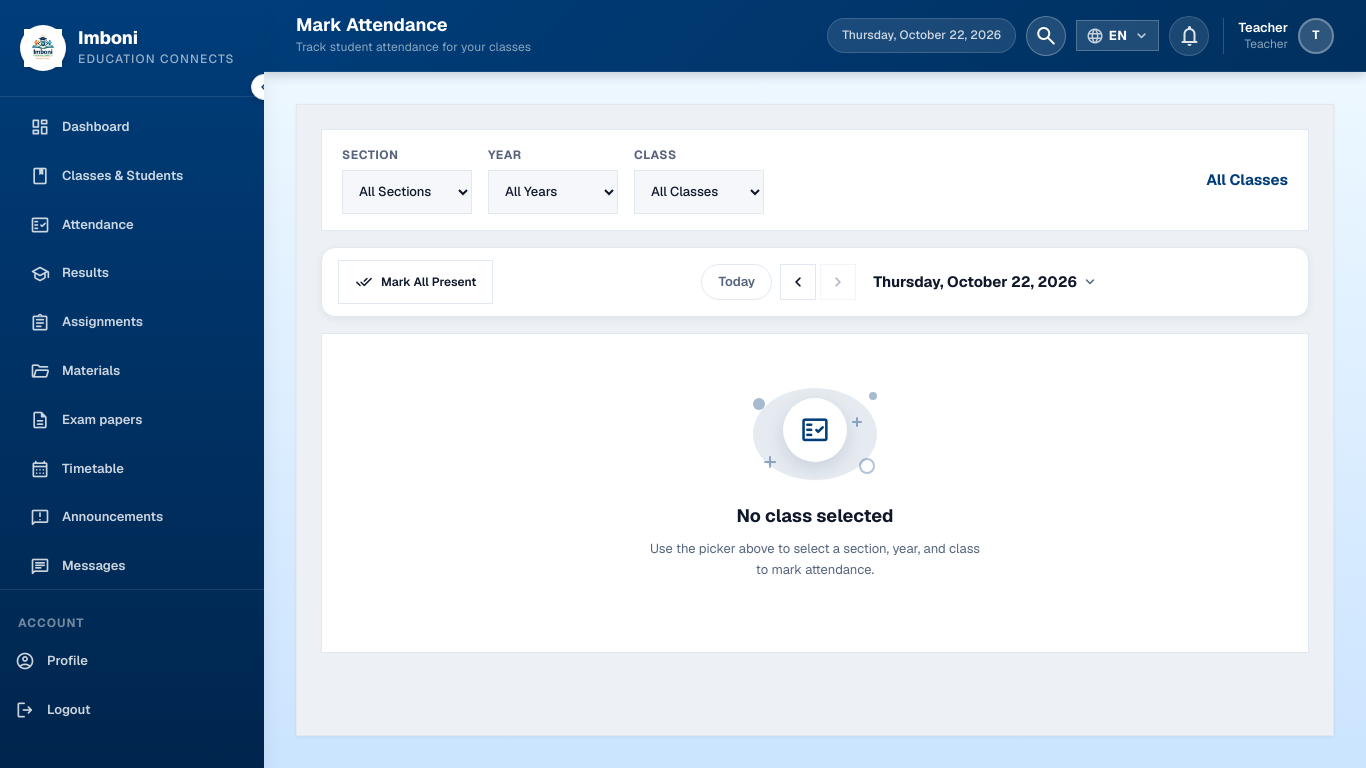
TeacherAttendance › shows the offline confirmation when the register is queued instead of sent
The width and height of the screenshot is (1366, 768).
# Drill down Section → Year → Class in the picker to load the roster
Select "O-Level" in the dropdown labelled "Section": coordinates (407, 192) [342,170,472,214]
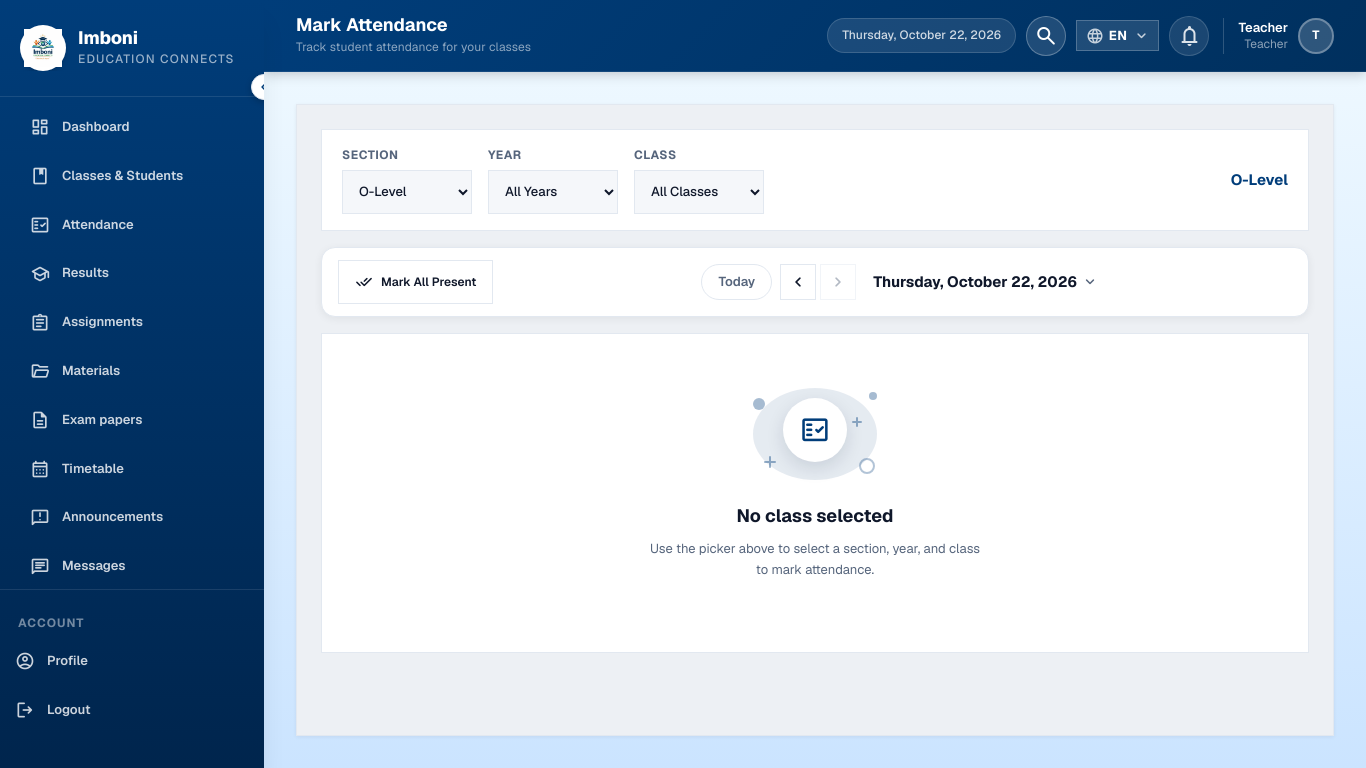
Select "S1" in the dropdown labelled "Year": coordinates (553, 192) [488,170,618,214]
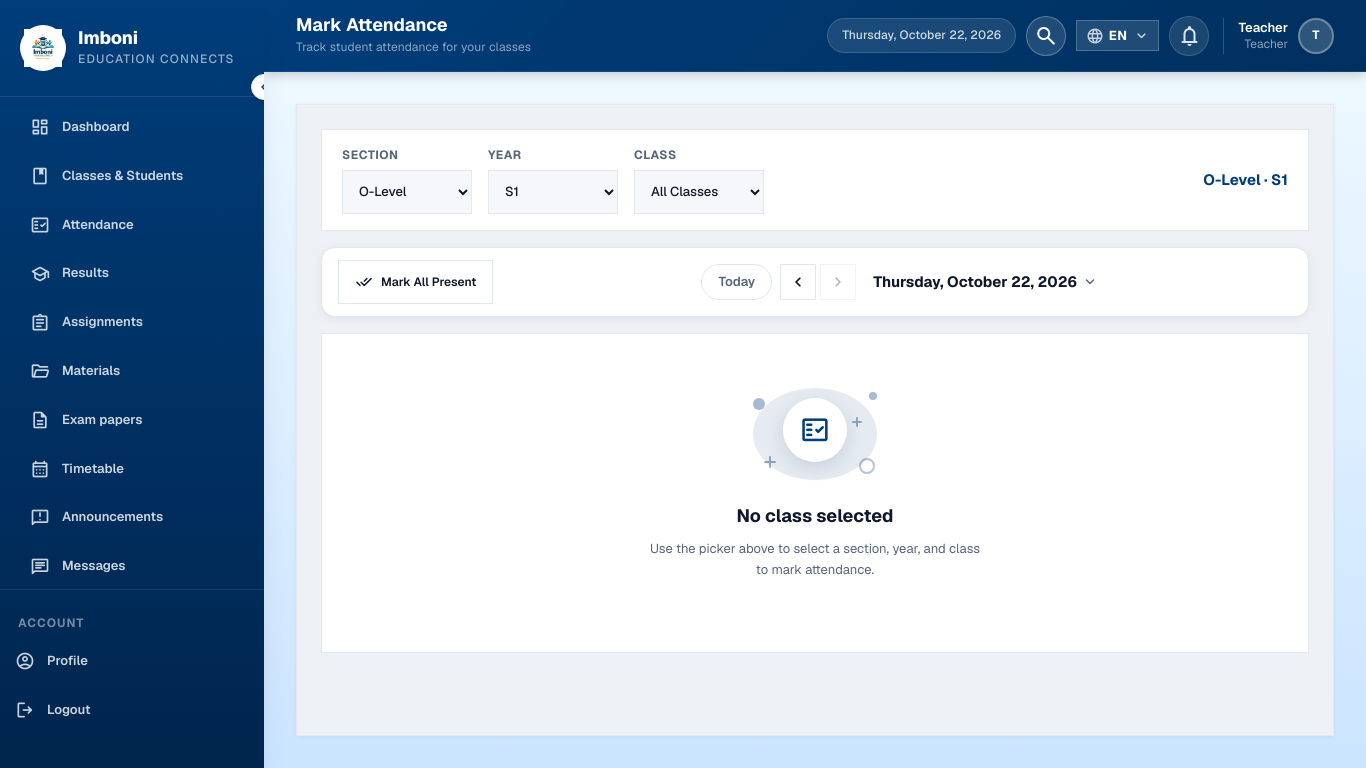
Select "A" in the dropdown labelled "Class": coordinates (699, 192) [634,170,764,214]
(page scrolled)
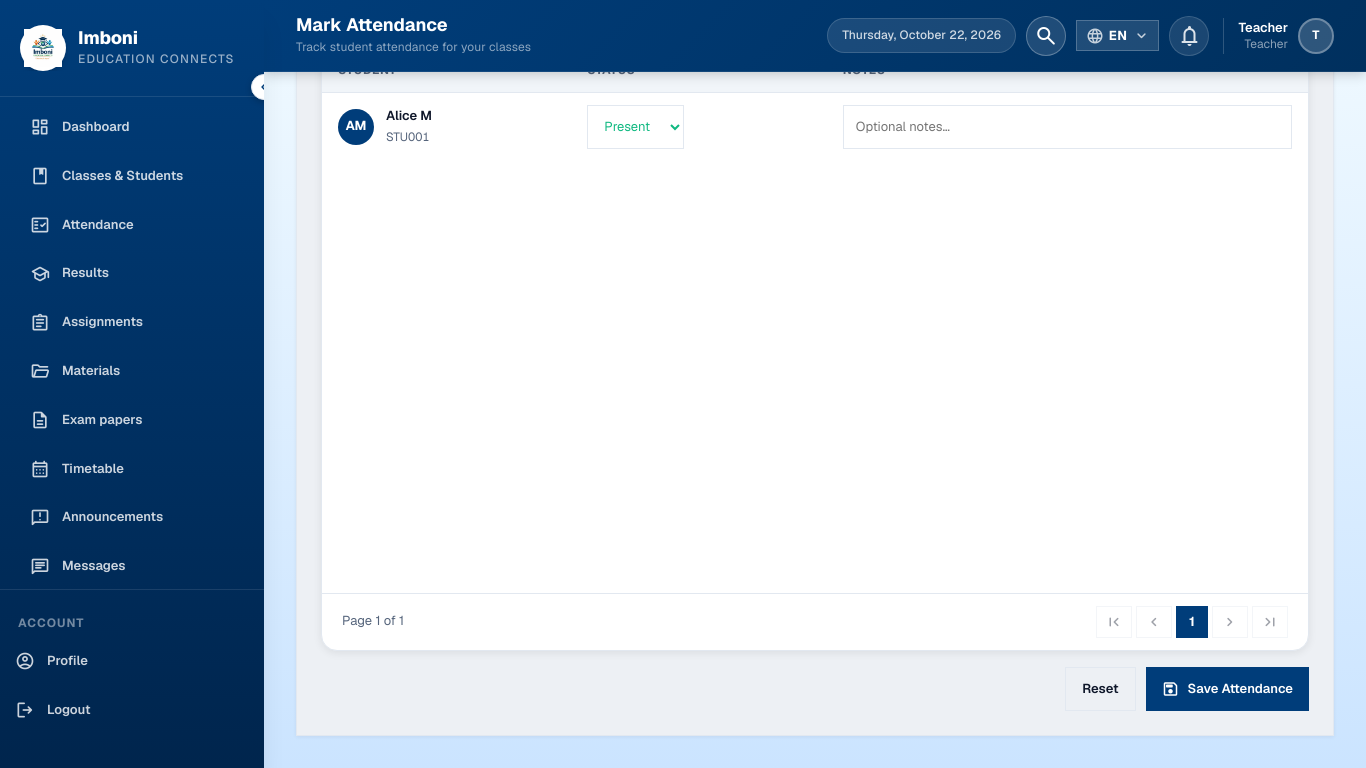
Expected: the text "Alice M" is shown, [386,106,432,127]
Click the button "Save Attendance": coordinates (1227, 689) [1146,667,1309,711]
(page scrolled)
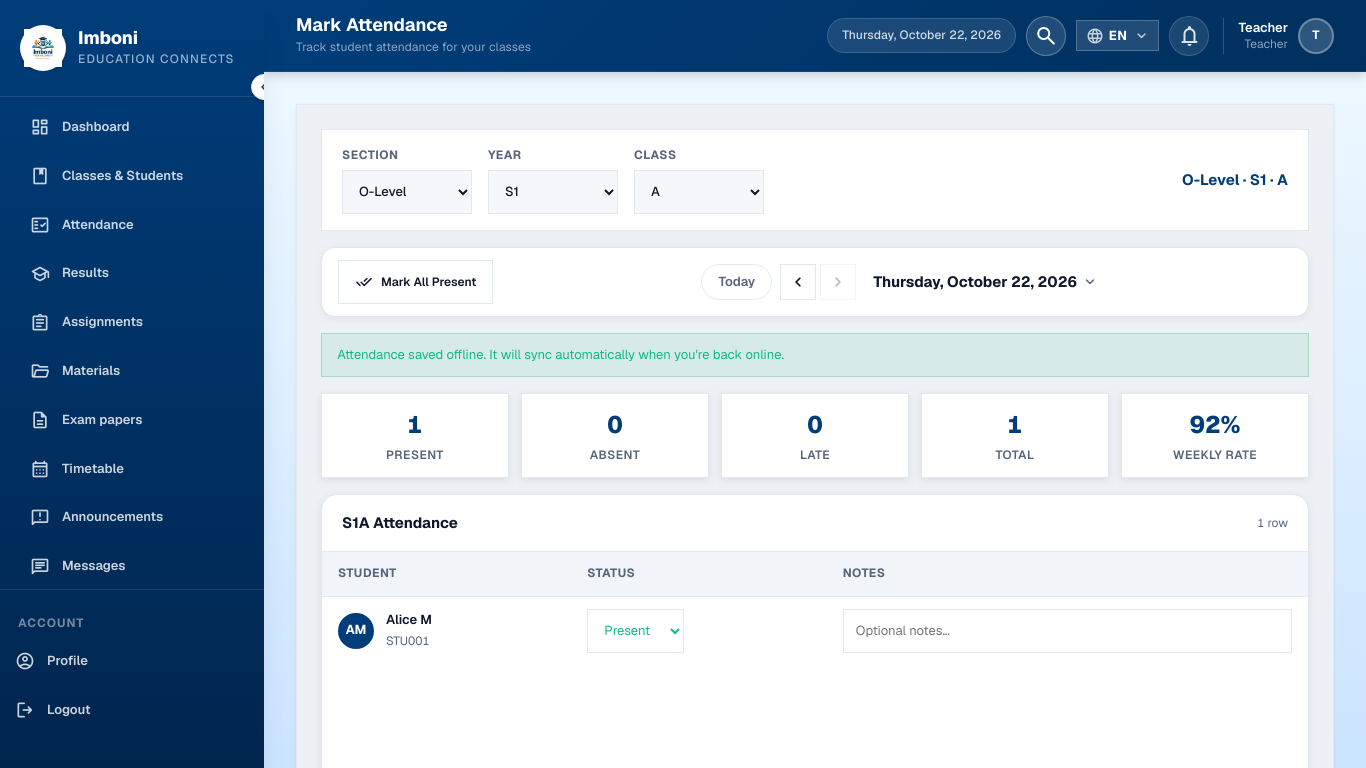
Expected: the text "saved offline. It will sync automatically" is shown, [337,346,784,363]
